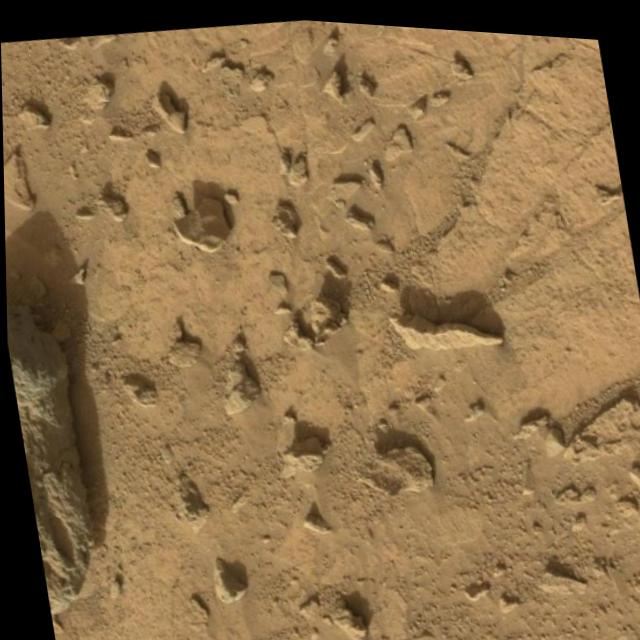mars-rocks: (5, 304, 91, 613), (387, 306, 502, 342), (353, 440, 431, 490), (172, 193, 228, 247)
